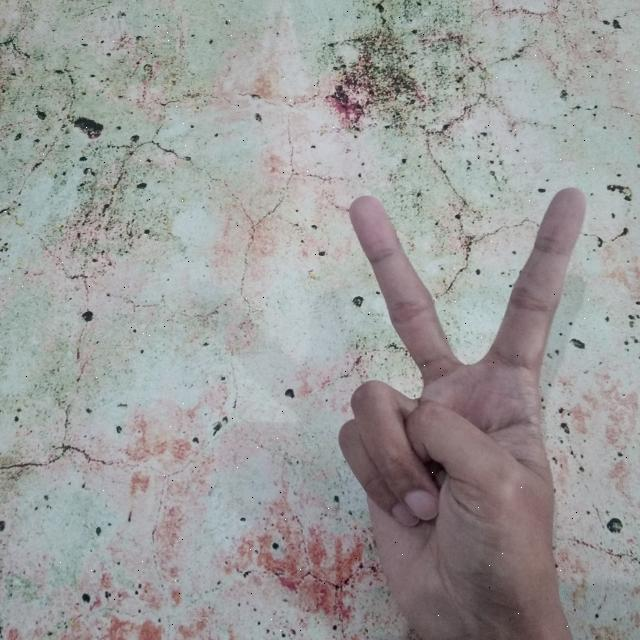V: (321, 180, 588, 640)
